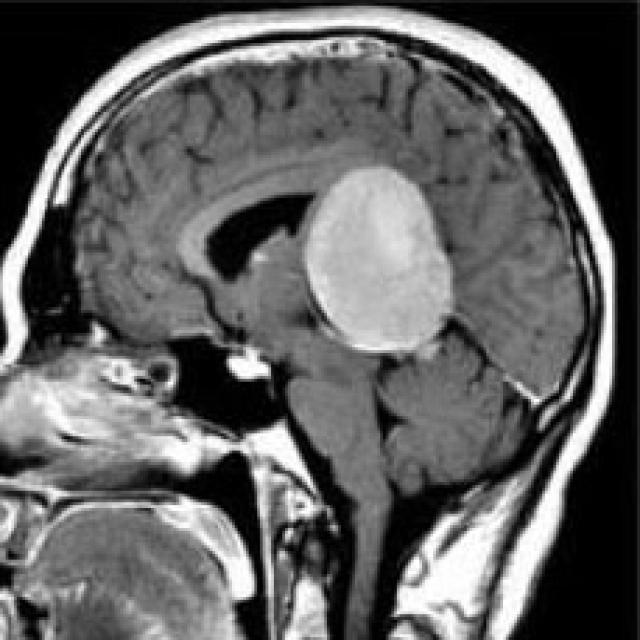Meningioma: (304, 166, 452, 352)
